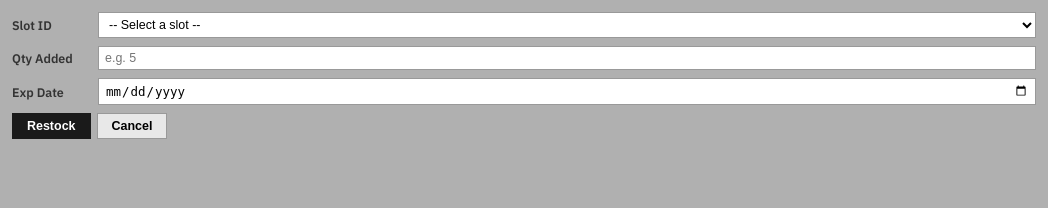
Test: RestockForm › validates all three fields simultaneously on submit
Step 1. Click the button "Restock" → (51,126), box [12,113,90,139]
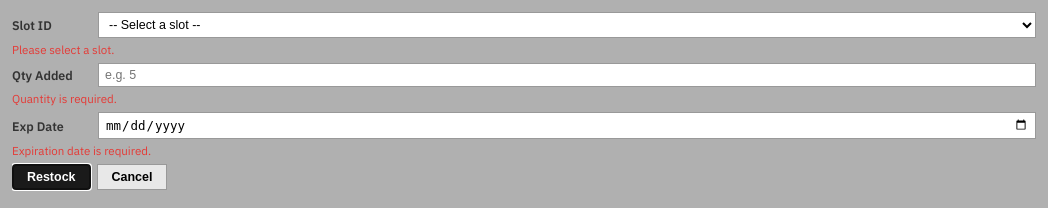
Check: the text "Please select a slot." is shown, box [12,42,114,57]
Check: the text "Quantity is required." is shown, box [12,91,117,106]
Check: the text "Expiration date is required." is shown, box [12,143,151,158]
